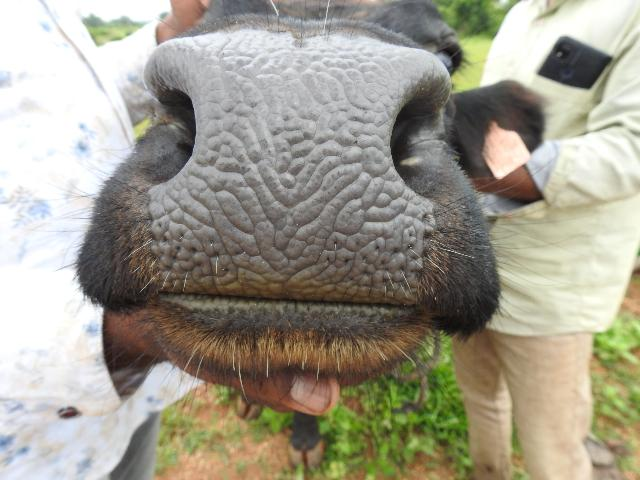Muzzle: (162, 44, 412, 292)
